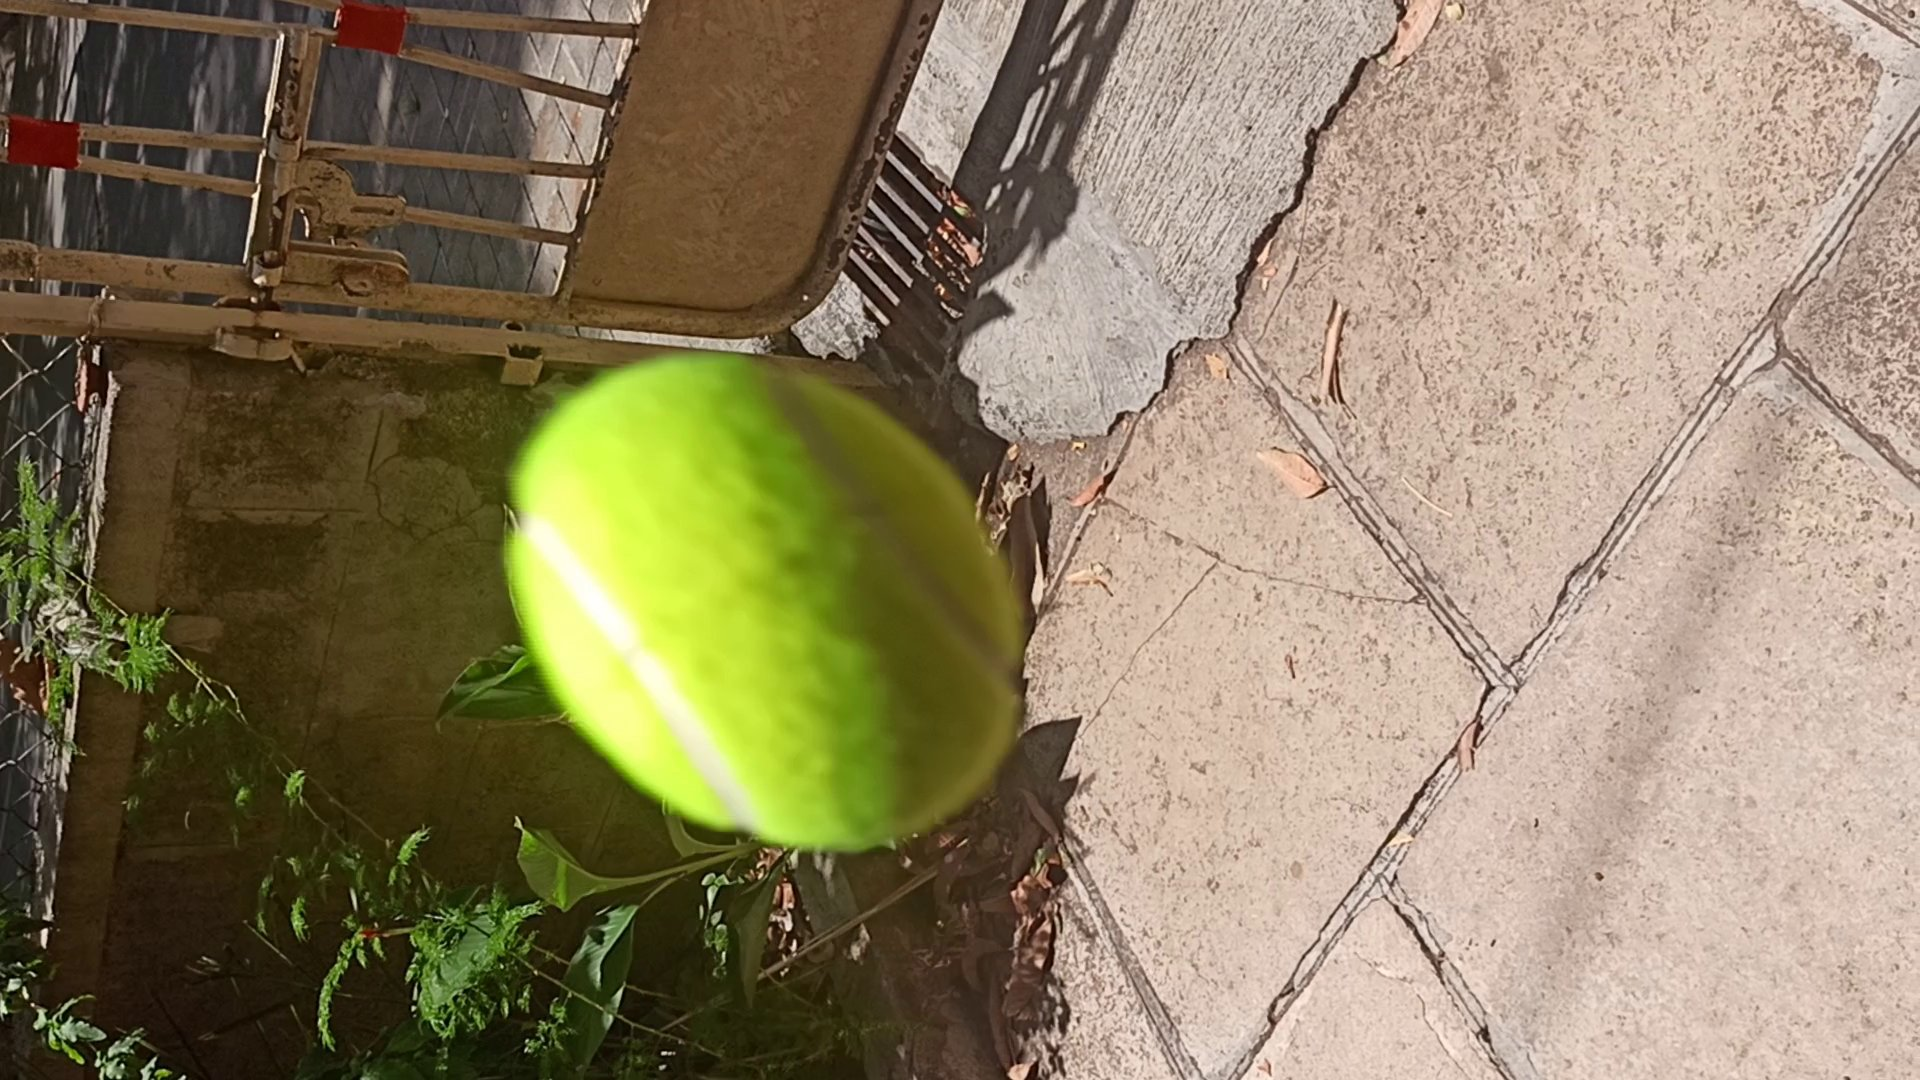Tennis-Ball: (505, 352, 1023, 849)
